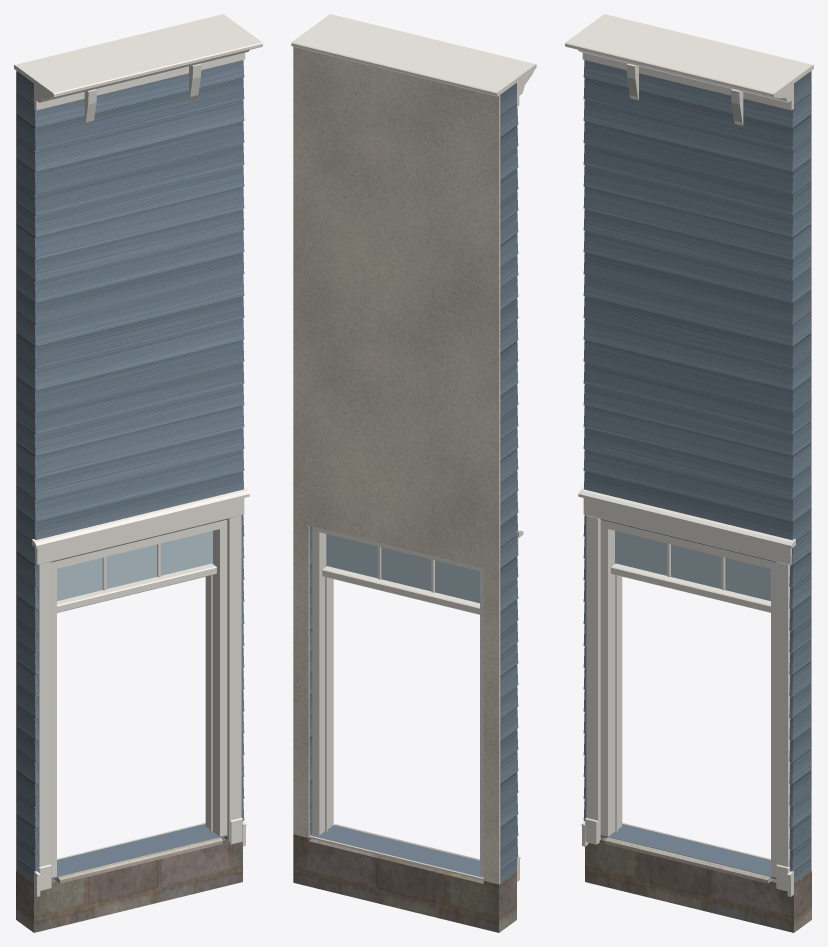
File: front_door.glb
3 views of the same model, side by side, from view 1: azimuth 30°, elevation 25°; view 2: azimuth 150°, elevation 25°; view 3: azimuth 330°, elevation 25° (orthographic).
Visible parts, largest first — view 1: front_door_siding, front_door_trim, front_door_frame, front_door_stone, front_door_glass, front_door_cap, front_door_plaster; view 2: front_door_plaster, front_door_siding, front_door_stone, front_door_frame, front_door_trim, front_door_glass; view 3: front_door_siding, front_door_trim, front_door_frame, front_door_stone, front_door_glass, front_door_cap, front_door_plaster.
Part boxes in pixels (x1,y1,x2,y2): front_door_siding: [17, 60, 244, 883]; front_door_trim: [14, 14, 262, 896]; front_door_frame: [51, 519, 227, 877]; front_door_stone: [16, 837, 242, 932]; front_door_glass: [57, 531, 212, 601]; front_door_cap: [54, 837, 222, 883]; front_door_plaster: [16, 70, 205, 870]; front_door_plaster: [293, 46, 500, 884]; front_door_siding: [309, 83, 518, 883]; front_door_stone: [293, 834, 516, 932]; front_door_frame: [312, 526, 483, 875]; front_door_trim: [291, 14, 536, 881]; front_door_glass: [326, 534, 479, 603]; front_door_siding: [583, 60, 810, 883]; front_door_trim: [565, 14, 813, 896]; front_door_frame: [600, 519, 776, 877]; front_door_stone: [585, 837, 811, 932]; front_door_glass: [615, 531, 770, 601]; front_door_cap: [605, 837, 773, 883]; front_door_plaster: [622, 70, 811, 870].
Size of the model in its own units: 2.04 by 7.81 by 0.66.
Materials: 7 (4 with a texture image).
